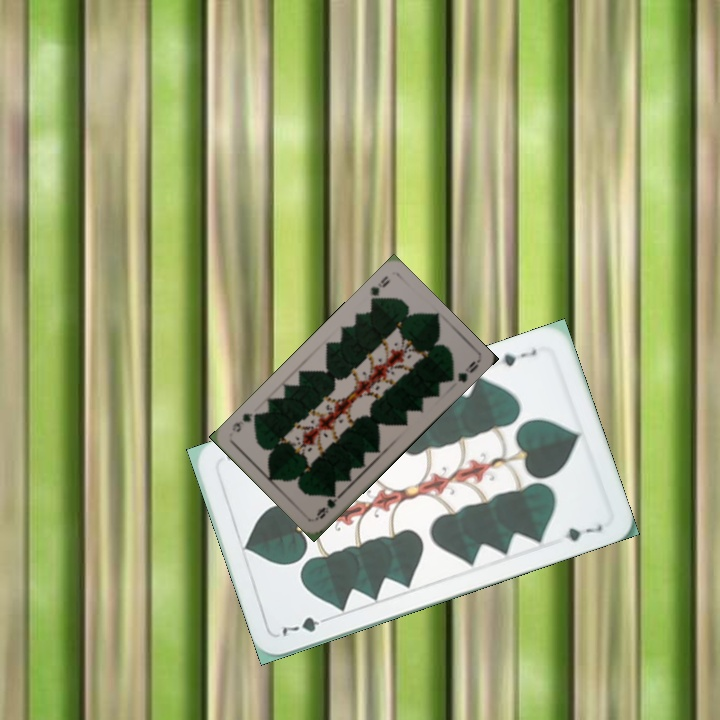G7: (277, 612, 334, 639), (490, 345, 540, 369)
G9: (312, 488, 345, 522), (366, 271, 393, 308)
